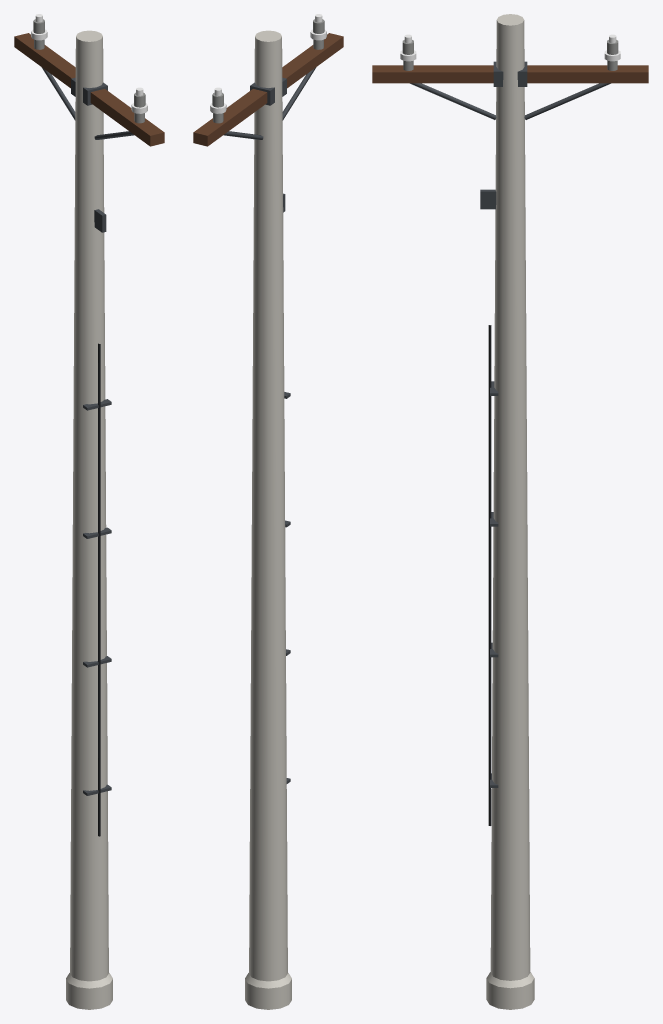
Rendered from poste-energia.glb.
3 views of the same model, side by side, from view 1: azimuth 30°, elevation 25°; view 2: azimuth 150°, elevation 25°; view 3: azimuth 270°, elevation 25° (orthographic).
Visible parts, largest first — view 1: Poste, Cruzeta, Telecom, Isoladores, Ferragens; view 2: Poste, Cruzeta, Isoladores, Ferragens; view 3: Poste, Cruzeta, Telecom, Ferragens, Isoladores.
Boxes of the visible parts, <box> form: Poste: <box>66,30,112,1009</box>; Cruzeta: <box>14,33,164,146</box>; Telecom: <box>83,209,111,836</box>; Isoladores: <box>31,14,147,123</box>; Ferragens: <box>41,67,134,139</box>; Poste: <box>245,30,291,1009</box>; Cruzeta: <box>193,33,343,146</box>; Isoladores: <box>210,14,326,123</box>; Ferragens: <box>223,67,316,139</box>; Poste: <box>486,14,534,1009</box>; Cruzeta: <box>372,65,648,83</box>; Telecom: <box>480,189,498,825</box>; Ferragens: <box>410,61,610,119</box>; Isoladores: <box>400,34,620,70</box>.
Bounding box in the file's own units: 0.4 × 9 × 2.3.
